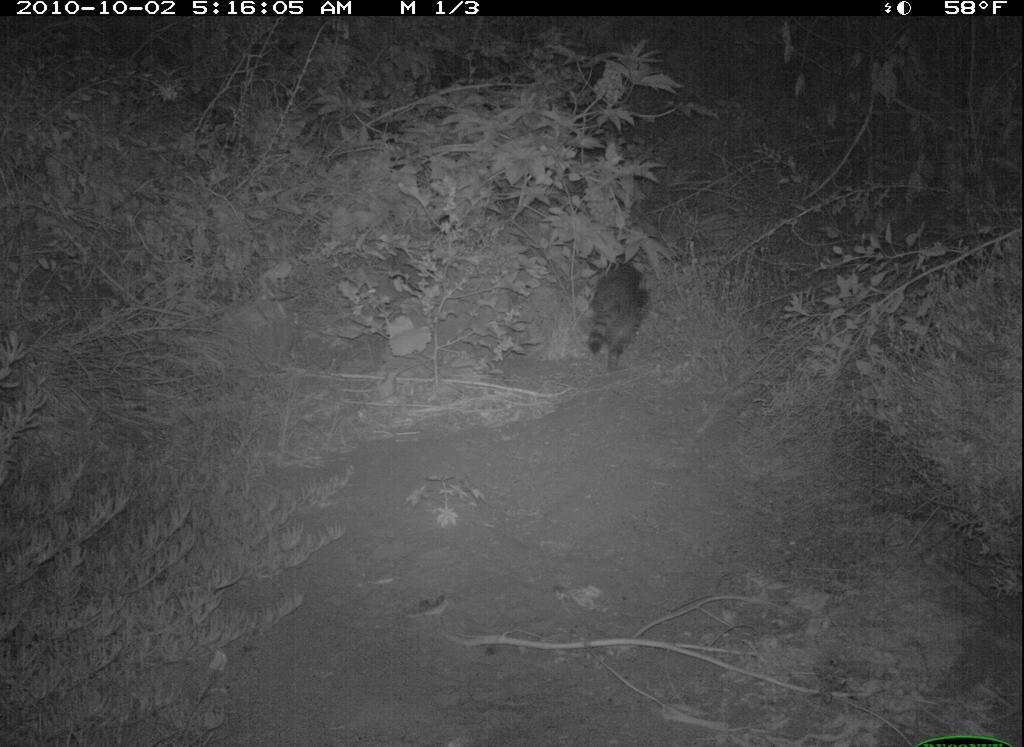raccoon: (577, 248, 649, 378)
